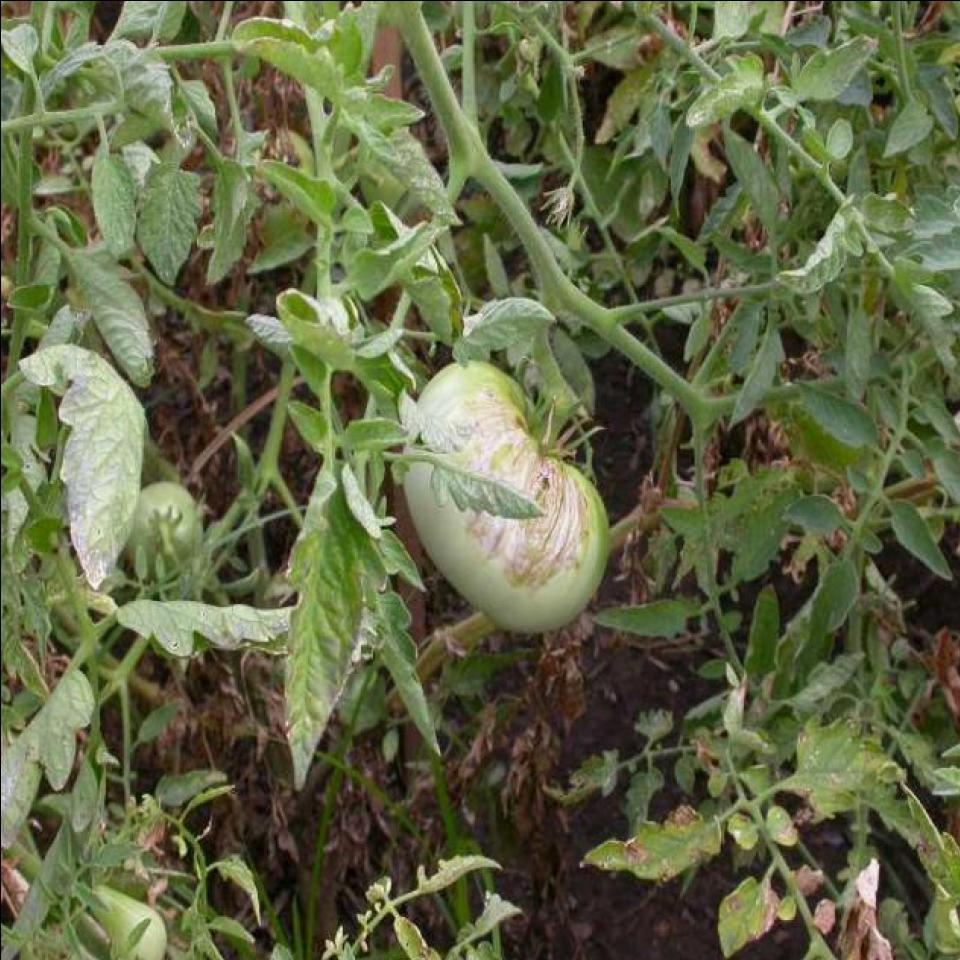Sunscald: (415, 376, 588, 596)
